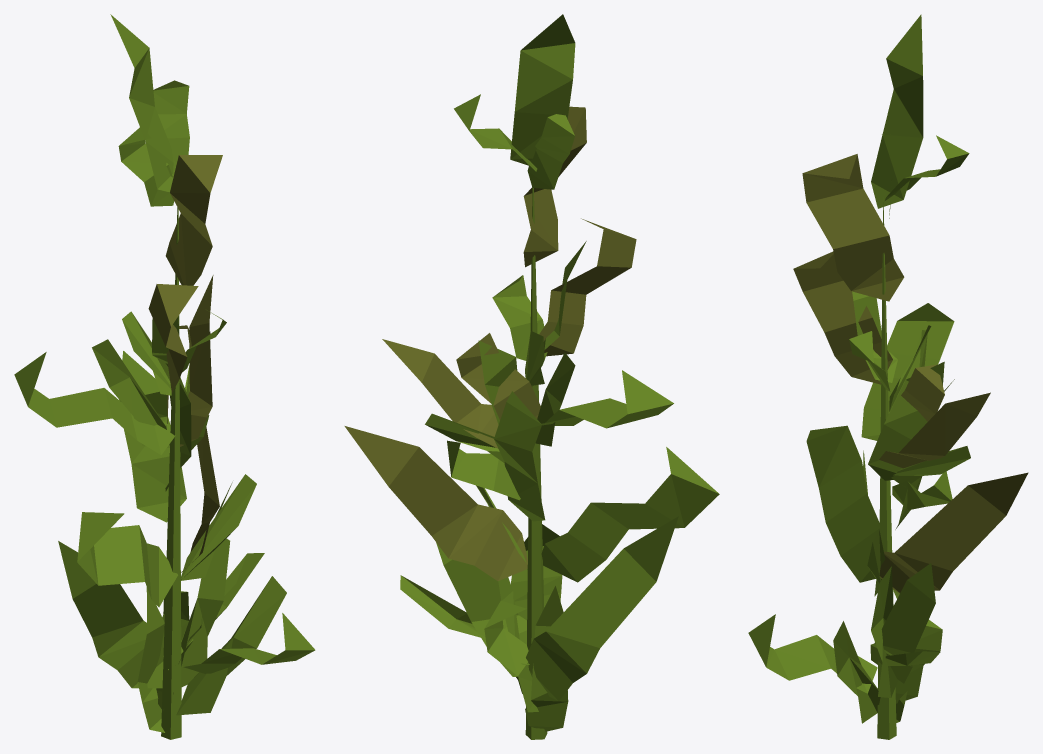
Rendered from Corn1.glb.
3 views of the same model, side by side, from view 1: azimuth 30°, elevation 25°; view 2: azimuth 150°, elevation 25°; view 3: azimuth 270°, elevation 25° (orthographic). The views are drawn at different scales.
Visible parts, largest first — view 1: Corn.Geo.004; view 2: Corn.Geo.004; view 3: Corn.Geo.004.
Part boxes in pixels (box(x1,y1,x2,y2)): Corn.Geo.004: box(14, 14, 315, 739); Corn.Geo.004: box(344, 14, 719, 739); Corn.Geo.004: box(748, 14, 1028, 739).
Bounding box in the file's own units: 2.64 × 7.24 × 2.63.
